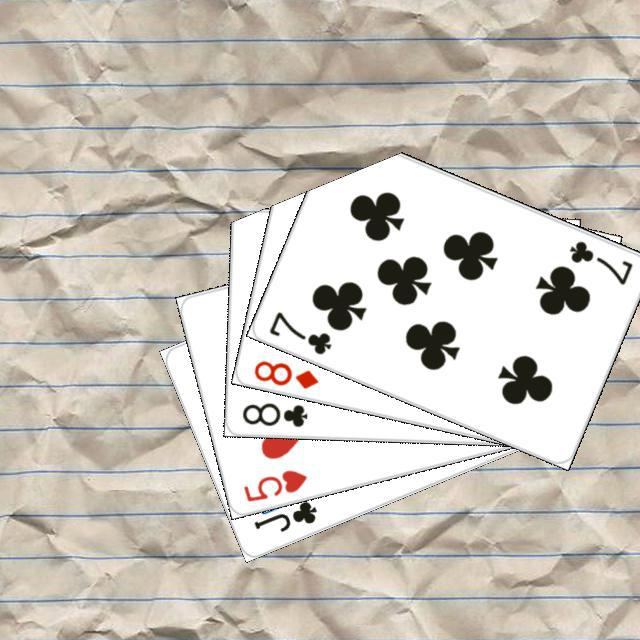5h: (238, 465, 309, 504)
7c: (564, 236, 634, 287), (264, 306, 333, 357)
8c: (238, 398, 310, 428)
8d: (249, 355, 320, 391)
Jc: (248, 495, 319, 534)
